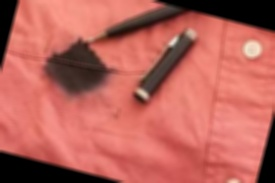ink: (44, 41, 107, 93)
